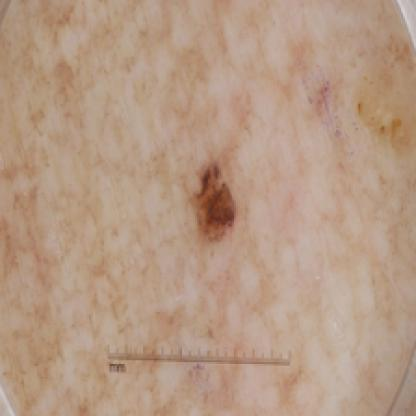malignant: (186, 145, 243, 245)
